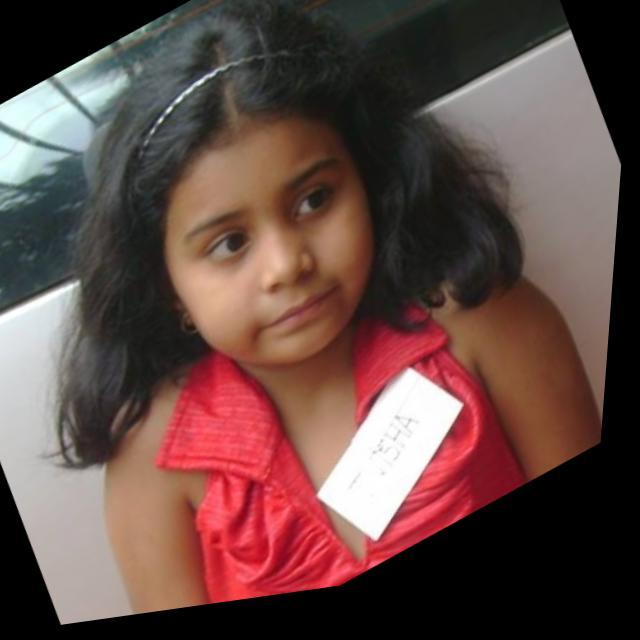Nonhelmet: (112, 16, 418, 363)
